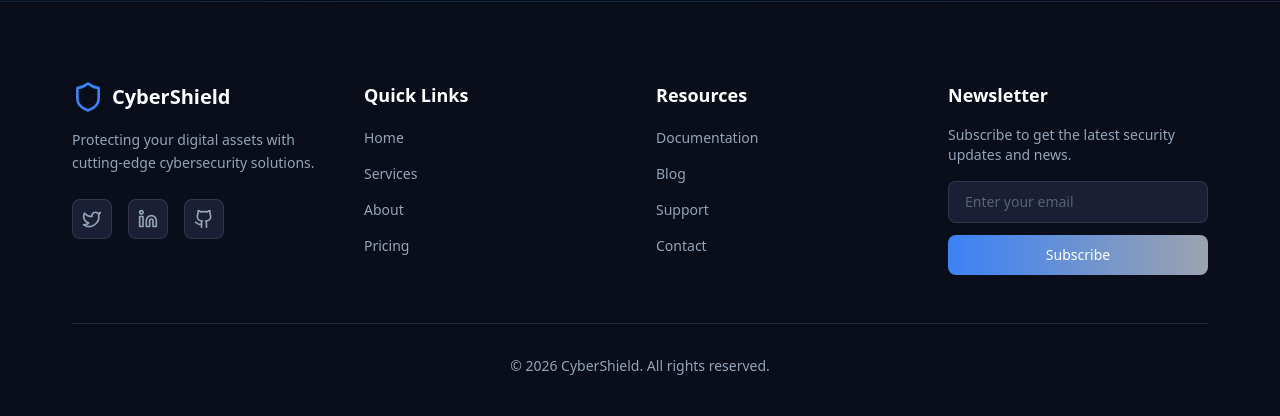
Footer › Newsletter Form Validation › should accept valid email formats
Type "test@example.com" into the field with placeholder "Enter your email".
click(1078, 202); type("test@example.com")  # box left=948, top=181, right=1208, bottom=223
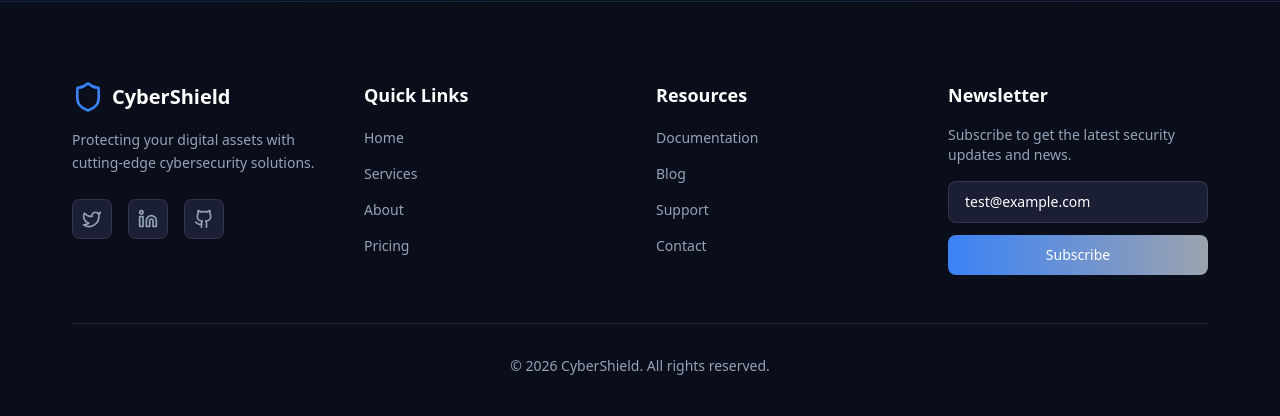
Click the button "Subscribe".
click(1078, 255)  # box left=948, top=235, right=1208, bottom=275
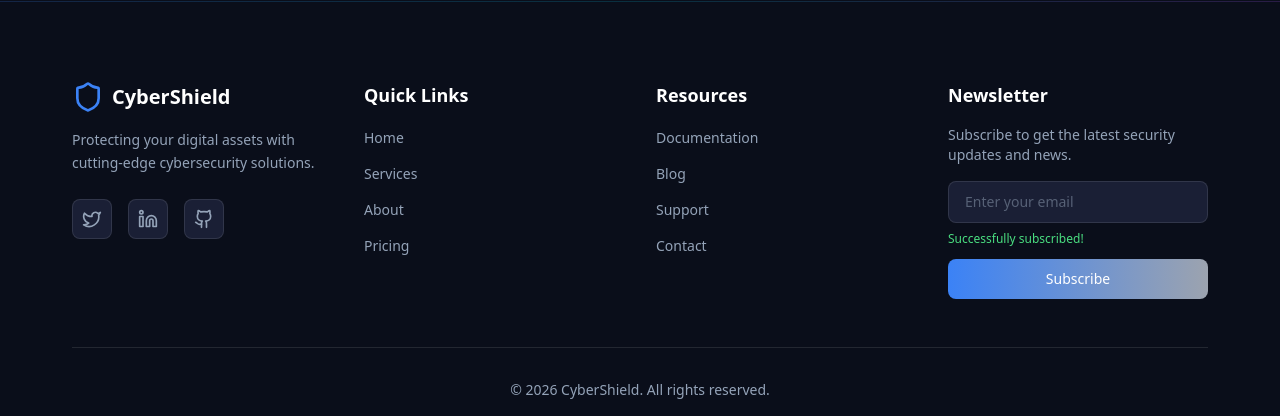
expect the text "Successfully subscribed!" is shown: met, box left=948, top=230, right=1084, bottom=247
Type "user.name@domain.co.uk" into the field with placeholder "Enter your email".
click(1078, 202); type("user.name@domain.co.uk")  # box left=948, top=181, right=1208, bottom=223
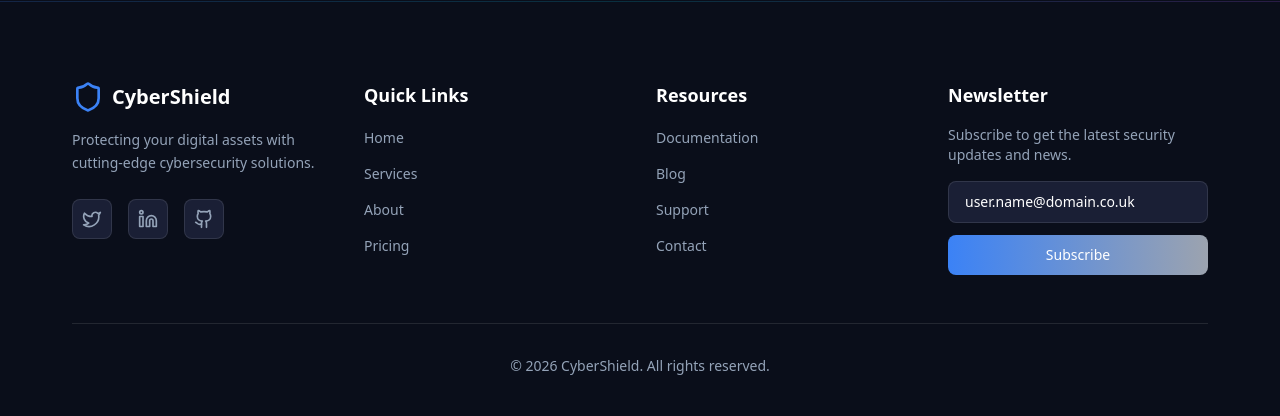
Click the button "Subscribe".
click(1078, 255)  # box left=948, top=235, right=1208, bottom=275
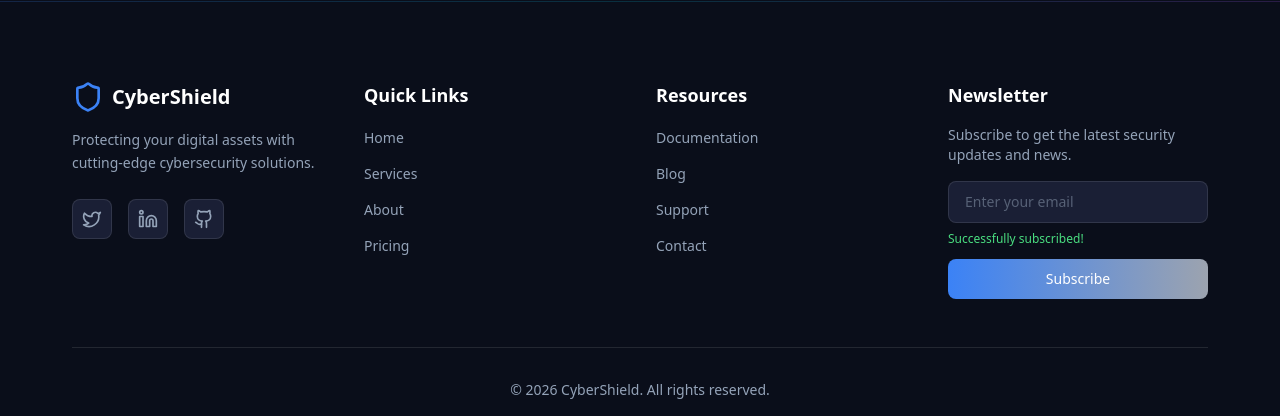
expect the text "Successfully subscribed!" is shown: met, box left=948, top=230, right=1084, bottom=247
Type "user+tag@example.org" into the field with placeholder "Enter your email".
click(1078, 202); type("user+tag@example.org")  # box left=948, top=181, right=1208, bottom=223
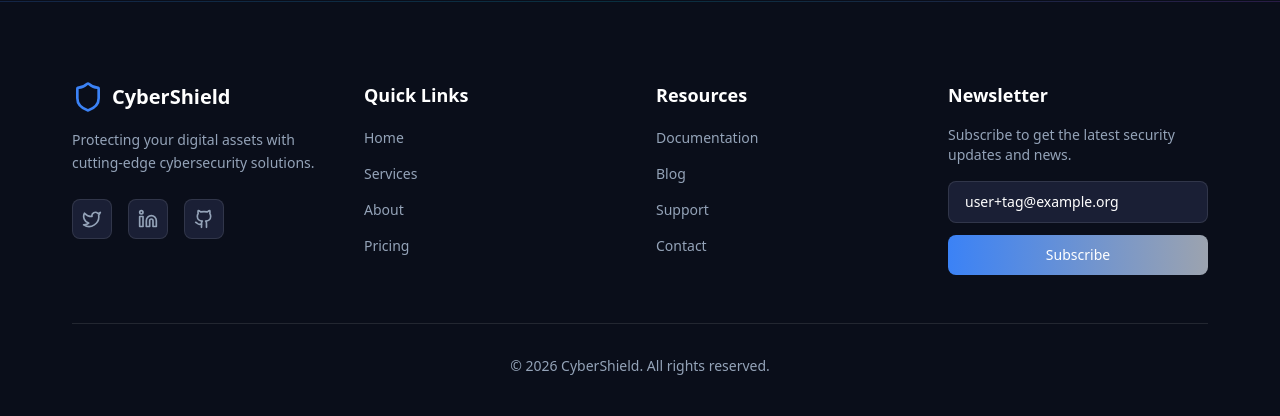
Click the button "Subscribe".
click(1078, 255)  # box left=948, top=235, right=1208, bottom=275
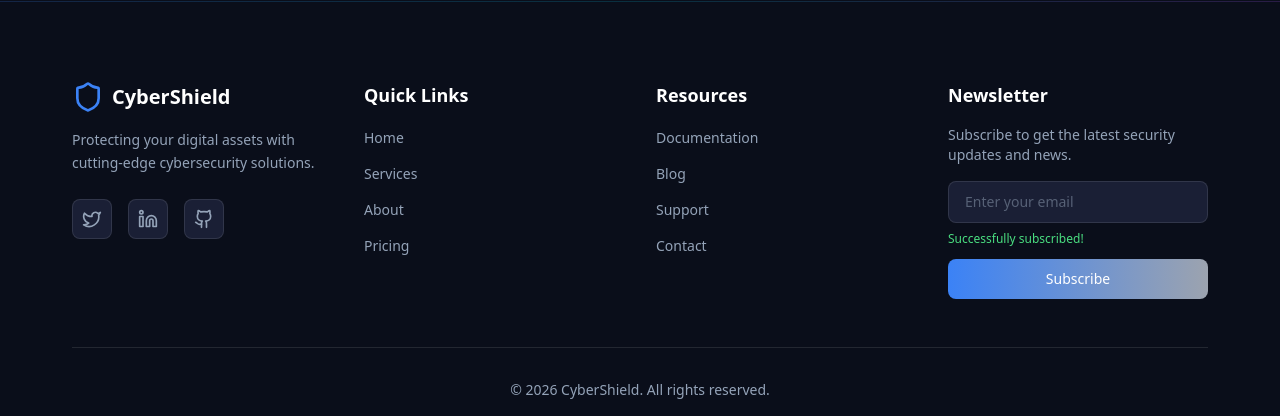
expect the text "Successfully subscribed!" is shown: met, box left=948, top=230, right=1084, bottom=247
